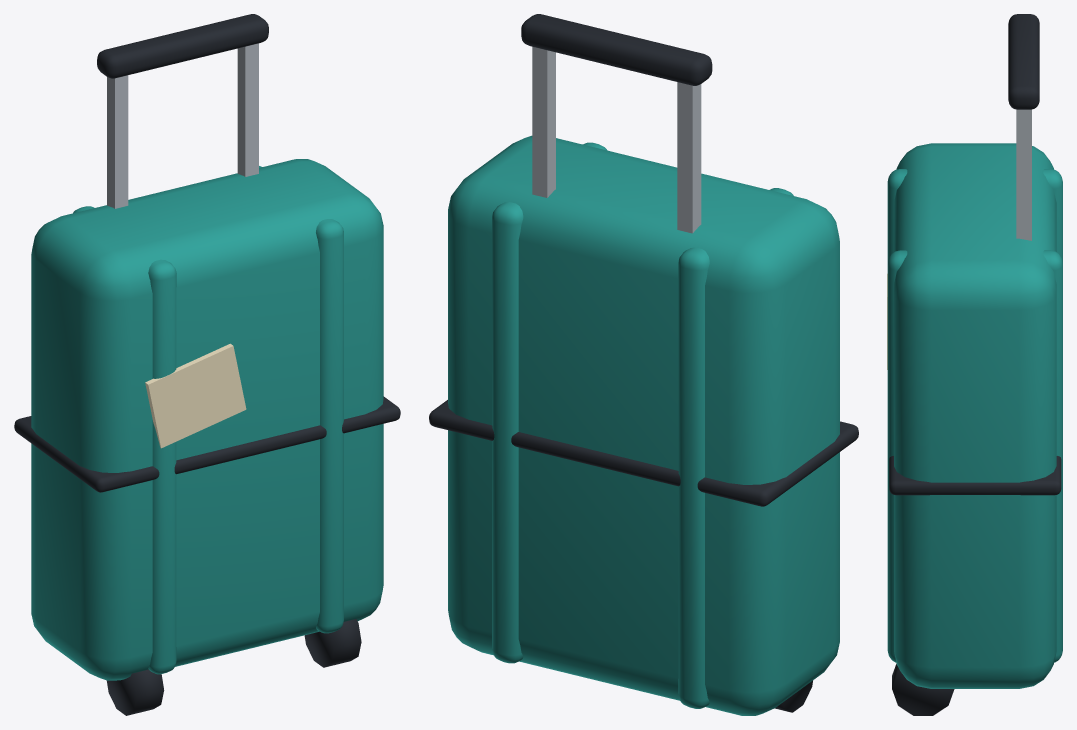
Rendered from suitcase_teal.glb.
3 views of the same model, side by side, from view 1: azimuth 30°, elevation 25°; view 2: azimuth 150°, elevation 25°; view 3: azimuth 270°, elevation 25° (orthographic). The views are drawn at different scales.
Parts seen in each view (by area): view 1: body, rib0.15400000000000003, rib-0.15400000000000003, sticker, zip, grip, rod-0.12, rod0.12, wheel-0.18150000000000002, wheel0.18150000000000002; view 2: body, rib-0.15400000000000003, rib0.15400000000000003, zip, grip, rod-0.12, rod0.12; view 3: body, rib0.15400000000000003, grip, zip, rod0.12, wheel0.18150000000000002, rib-0.15400000000000003.
Part boxes in pixels (x1=…): body: x1=31, y1=159, x2=383, y2=680; rib0.15400000000000003: x1=259, y1=166, x2=343, y2=633; rib-0.15400000000000003: x1=73, y1=206, x2=176, y2=674; sticker: x1=145, y1=343, x2=246, y2=448; zip: x1=14, y1=396, x2=400, y2=492; grip: x1=97, y1=14, x2=268, y2=78; rod-0.12: x1=107, y1=75, x2=128, y2=208; rod0.12: x1=237, y1=43, x2=258, y2=176; wheel-0.18150000000000002: x1=106, y1=669, x2=164, y2=715; wheel0.18150000000000002: x1=304, y1=619, x2=361, y2=667; body: x1=448, y1=135, x2=839, y2=715; rib-0.15400000000000003: x1=678, y1=188, x2=793, y2=708; rib0.15400000000000003: x1=492, y1=142, x2=607, y2=663; zip: x1=429, y1=400, x2=858, y2=506; grip: x1=521, y1=14, x2=712, y2=85; rod-0.12: x1=677, y1=82, x2=701, y2=233; rod0.12: x1=532, y1=46, x2=555, y2=197; body: x1=894, y1=143, x2=1056, y2=688; rib0.15400000000000003: x1=887, y1=250, x2=1062, y2=662; grip: x1=1008, y1=14, x2=1039, y2=109; zip: x1=889, y1=456, x2=1061, y2=495; rod0.12: x1=1016, y1=109, x2=1031, y2=240; wheel0.18150000000000002: x1=892, y1=663, x2=954, y2=715; rib-0.15400000000000003: x1=887, y1=169, x2=1062, y2=262.
Size of the model in its own units: 0.56 by 1.08 by 0.281.
